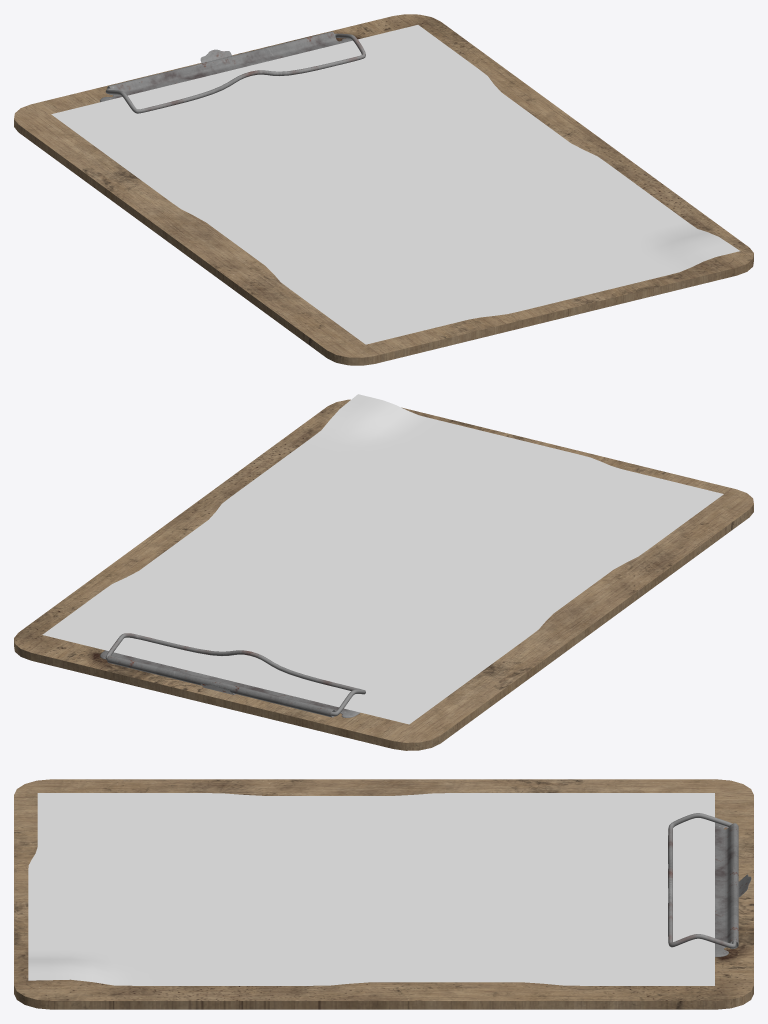
The model's file is clipboard.fbx.
3 views of the same model, one above another, from view 1: azimuth 30°, elevation 25°; view 2: azimuth 150°, elevation 25°; view 3: azimuth 270°, elevation 25° (orthographic). The views are drawn at different scales.
Parts seen in each view (by area): view 1: Plane, clipboard.001, clipboard, clipboard.002; view 2: Plane, clipboard.001, clipboard, clipboard.002; view 3: Plane, clipboard.001, clipboard, clipboard.002.
Part boxes in pixels (x1,y1,x2,y2): Plane: (51,25,739,344); clipboard.001: (14,14,753,365); clipboard: (100,31,352,101); clipboard.002: (105,33,365,113); Plane: (42,394,723,724); clipboard.001: (14,399,753,750); clipboard: (100,650,360,717); clipboard.002: (105,633,365,716); Plane: (28,793,714,985); clipboard.001: (14,779,753,1009); clipboard: (715,822,751,957); clipboard.002: (668,813,736,948).
Size of the model in its own units: 23.38 by 1.3 by 32.98.
3 materials, 3 textured.
